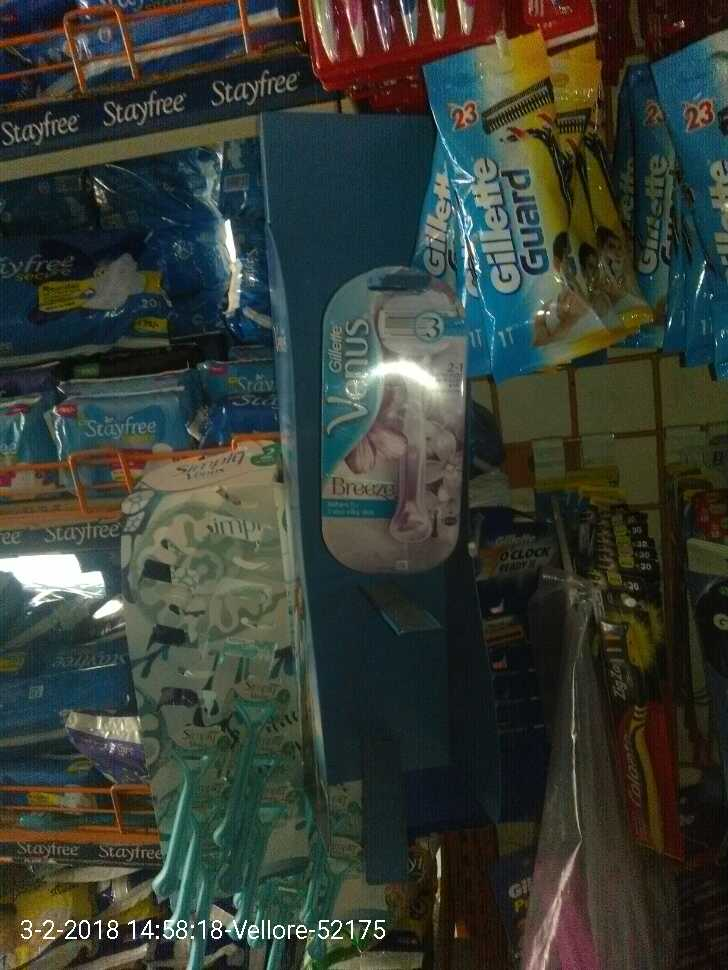beauty: (417, 44, 597, 368), (317, 257, 470, 582)
